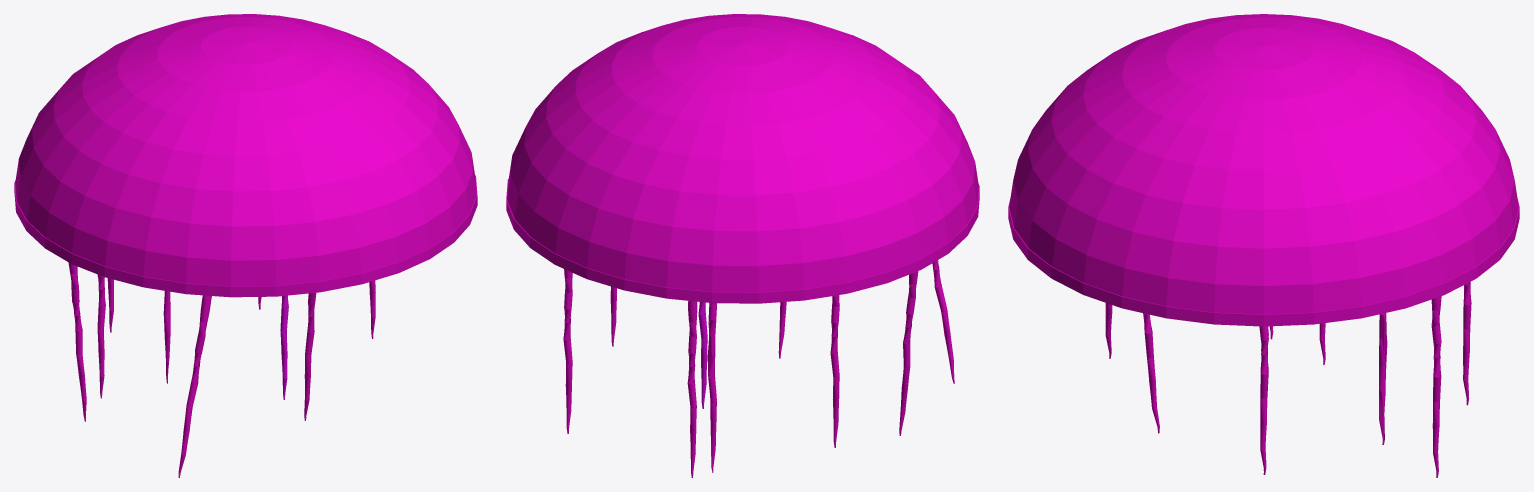
Rendered from jellyfish.fbx.
The picture shows the model from 3 angles, left to right: view 1: azimuth 30°, elevation 25°; view 2: azimuth 150°, elevation 25°; view 3: azimuth 270°, elevation 25°; orthographic projection. The views are drawn at different scales.
Parts seen in each view (by area): view 1: Sphere, bottom base, Cylinder.006, Cylinder.008, Cylinder.007, Cylinder.005, Cylinder, Cylinder.002; view 2: Sphere, bottom base, Cylinder.003, Cylinder.002, Cylinder.008, Cylinder.004, Cylinder.005, Cylinder.006, Cylinder; view 3: Sphere, bottom base, Cylinder.004, Cylinder.001, Cylinder.002, Cylinder.003, Cylinder.007.
Part boxes in pixels (x1,y1,x2,y2): Sphere: (15,14,476,286); bottom base: (14,175,477,297); Cylinder.006: (178,295,211,477); Cylinder.008: (68,262,86,421); Cylinder.007: (304,292,316,420); Cylinder.005: (97,274,105,398); Cylinder: (280,295,288,399); Cylinder.002: (163,291,170,383); Sphere: (507,14,978,292); bottom base: (506,179,979,303); Cylinder.003: (687,301,697,477); Cylinder.002: (707,303,716,472); Cylinder.008: (899,271,918,435); Cylinder.004: (563,269,572,433); Cylinder.005: (830,295,839,447); Cylinder.006: (932,260,954,383); Cylinder: (698,302,707,408); Sphere: (1009,14,1518,314); bottom base: (1008,199,1519,326); Cylinder.004: (1431,296,1441,477); Cylinder.001: (1259,326,1268,474); Cylinder.002: (1379,313,1387,444); Cylinder.003: (1463,282,1471,405); Cylinder.007: (1143,313,1159,433).
Size of the model in its own units: 200 by 178 by 200.
